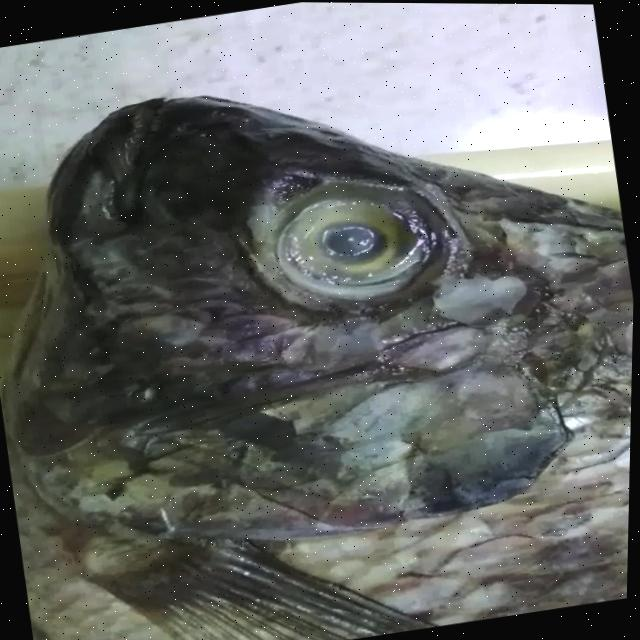Non-Fresh: (217, 145, 484, 349)
